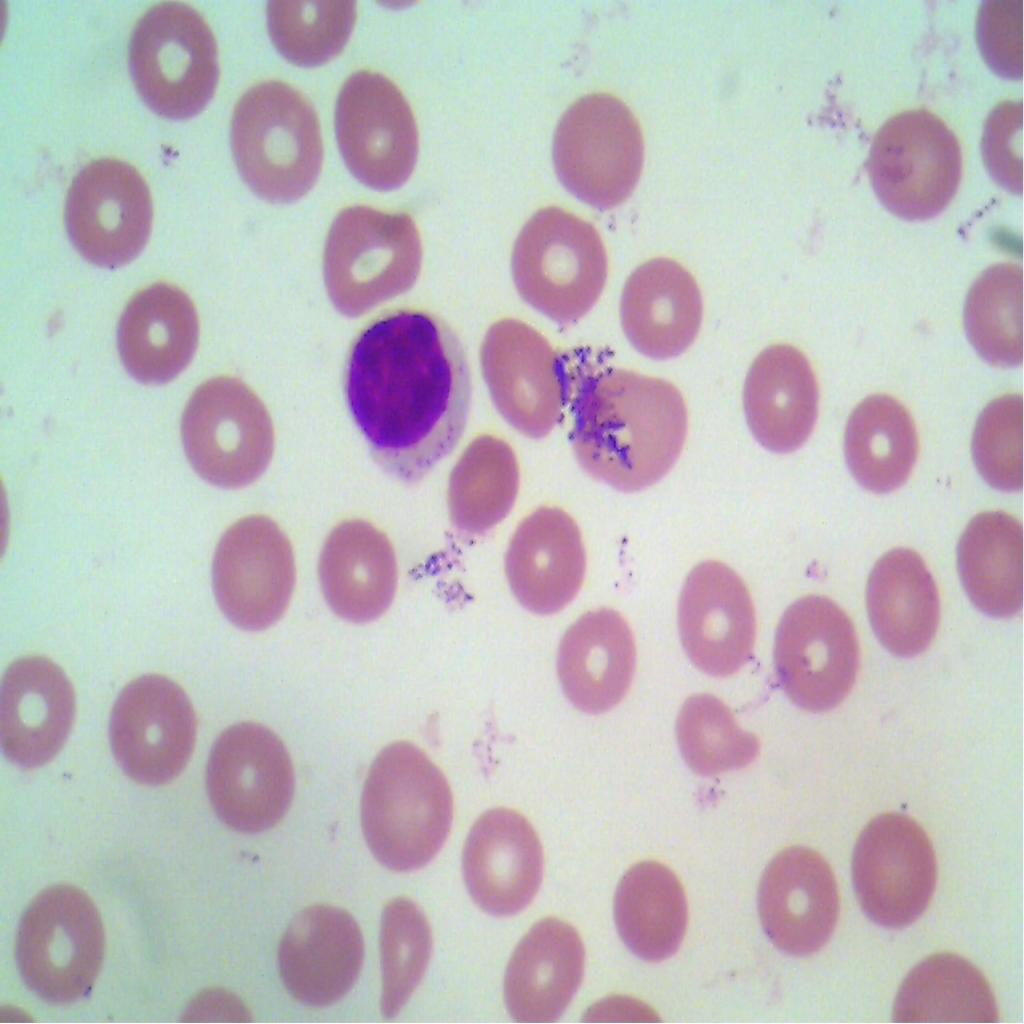Eritrosit: (311, 191, 438, 325), (763, 578, 868, 722), (224, 62, 324, 208), (95, 261, 203, 394), (13, 855, 106, 1005), (323, 59, 422, 197), (835, 376, 928, 520), (511, 194, 614, 324), (548, 601, 646, 737), (198, 506, 299, 634), (854, 106, 958, 230), (360, 738, 454, 875), (544, 86, 646, 212), (615, 239, 711, 371), (206, 714, 303, 844), (671, 550, 763, 685), (846, 801, 936, 938), (606, 850, 704, 975), (56, 154, 158, 272), (128, 0, 222, 127), (661, 684, 768, 794), (756, 832, 846, 961), (314, 504, 406, 630), (730, 343, 824, 464), (184, 371, 278, 489), (108, 668, 201, 787), (478, 317, 568, 438), (461, 798, 549, 921), (502, 903, 590, 1023), (276, 888, 364, 1007), (0, 660, 86, 776), (864, 545, 943, 668), (504, 502, 590, 612), (370, 888, 440, 1018), (446, 428, 522, 535), (958, 258, 1024, 375), (958, 508, 1024, 618)
Limfosit: (338, 302, 478, 479)
